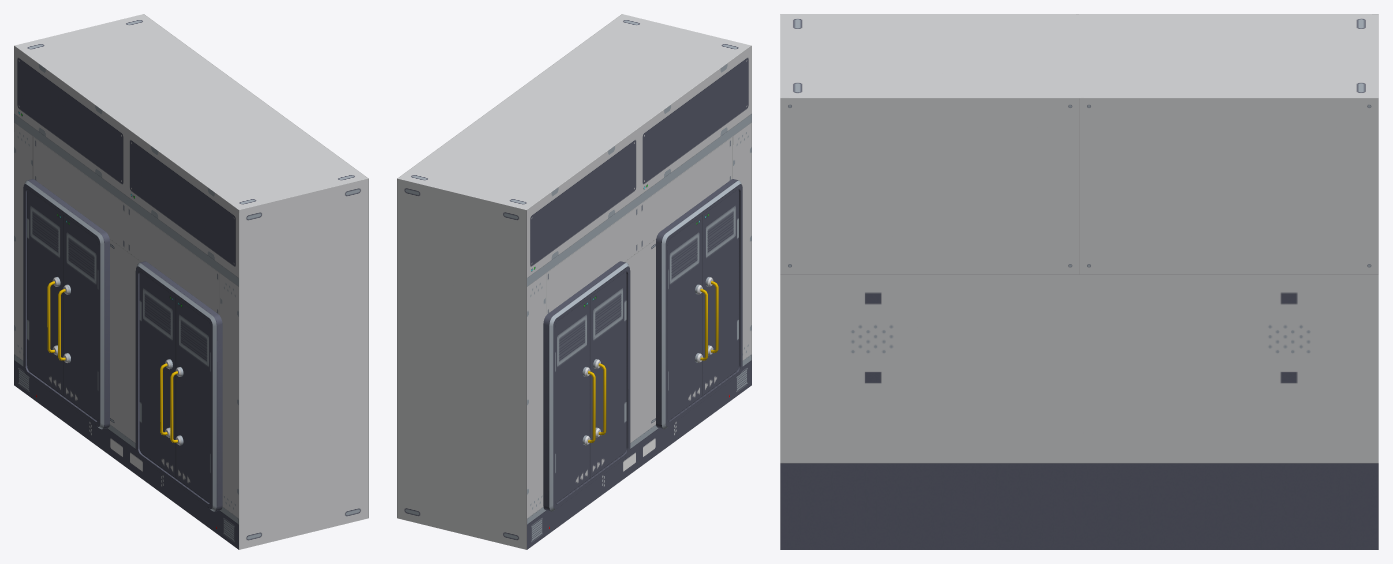
File: Wall_Normal_Simple_05.FBX
3 views of the same model, side by side, from view 1: azimuth 30°, elevation 25°; view 2: azimuth 150°, elevation 25°; view 3: azimuth 270°, elevation 25° (orthographic). The views are drawn at different scales.
Parts seen in each view (by area): view 1: Wall_Normal_Simple_05, Door_B, Door_D, Door_C, Door_A; view 2: Wall_Normal_Simple_05, Door_A, Door_C, Door_B, Door_D; view 3: Wall_Normal_Simple_05.
Part boxes in pixels (bbox=[...]): Wall_Normal_Simple_05: bbox=[14, 14, 368, 549]; Door_B: bbox=[58, 215, 98, 421]; Door_D: bbox=[170, 298, 210, 503]; Door_C: bbox=[139, 272, 175, 478]; Door_A: bbox=[27, 189, 63, 395]; Wall_Normal_Simple_05: bbox=[397, 14, 751, 549]; Door_A: bbox=[555, 298, 595, 503]; Door_C: bbox=[668, 215, 707, 421]; Door_B: bbox=[590, 271, 626, 478]; Door_D: bbox=[702, 189, 738, 395]; Wall_Normal_Simple_05: bbox=[780, 14, 1378, 549].
Size of the model in its own units: 2.27 by 5 by 6.
